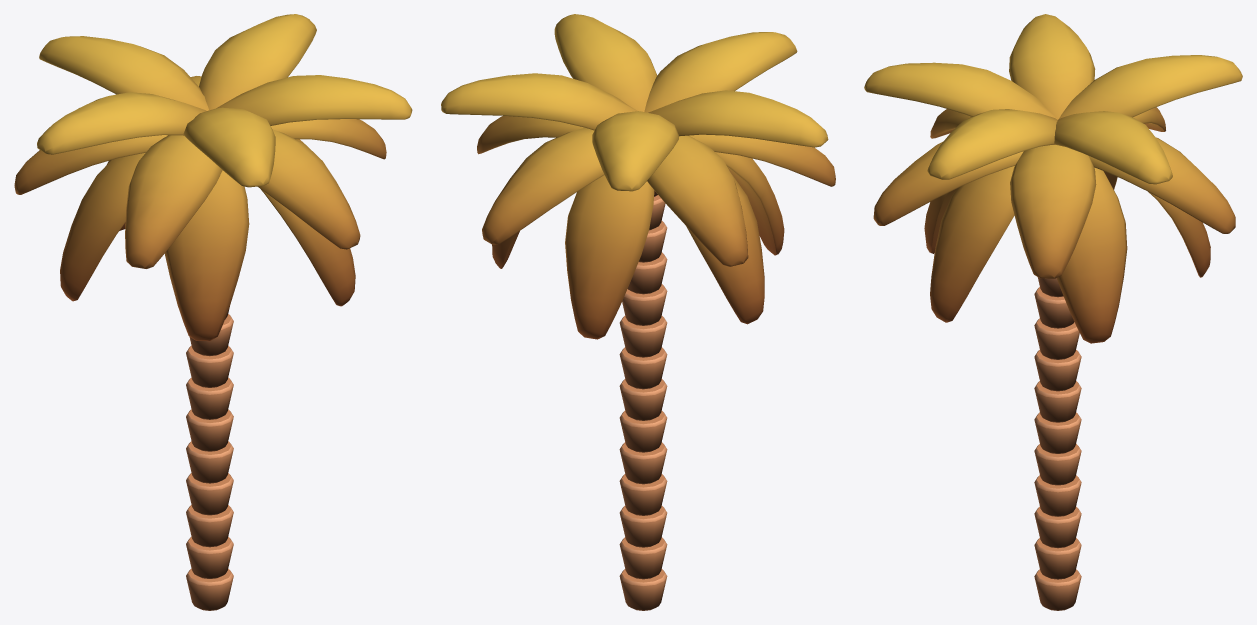
File: lpb_tree_2_c.fbx
3 views of the same model, side by side, from view 1: azimuth 30°, elevation 25°; view 2: azimuth 150°, elevation 25°; view 3: azimuth 270°, elevation 25° (orthographic).
Parts seen in each view (by area): view 1: ap_tree_2.002; view 2: ap_tree_2.002; view 3: ap_tree_2.002.
Boxes of the visible parts, x1=… form: ap_tree_2.002: x1=14, y1=14, x2=412, y2=610; ap_tree_2.002: x1=441, y1=14, x2=835, y2=610; ap_tree_2.002: x1=864, y1=14, x2=1242, y2=610.
Bounding box in the file's own units: 404 × 594 × 390.
